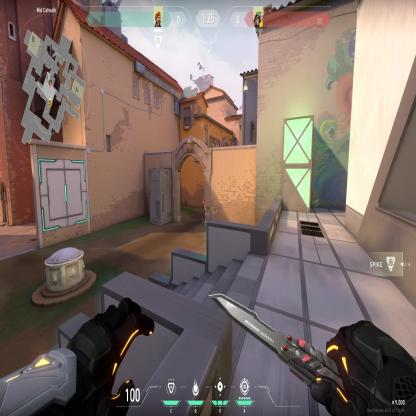enemy: (202, 194, 205, 224)
